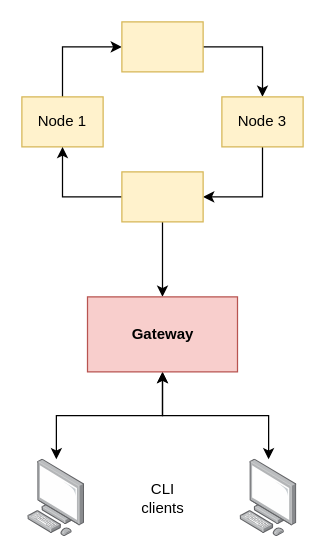
Image size: 325x559. Some labels were removed from this diagram. Here are the shapes that lost their labels. From the top down, the box of each, then its label:
(121, 21, 203, 72): Node 2
(121, 171, 203, 222): Node 4
